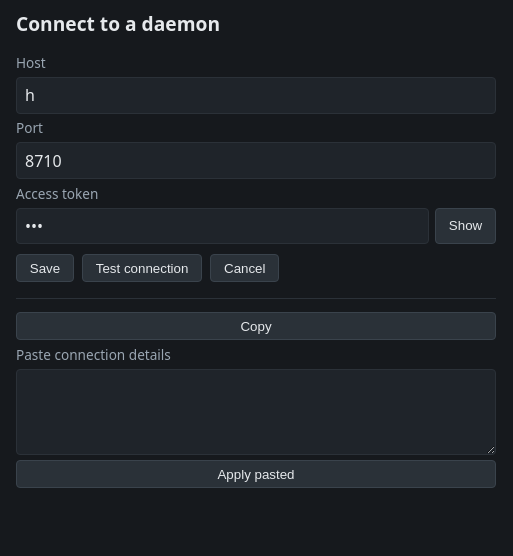
ConnectionSettings › distinguishes a rejected token from an unreachable daemon
Step 1. Click the button "Test connection" → point(142, 268), box 82,254 -> 202,282
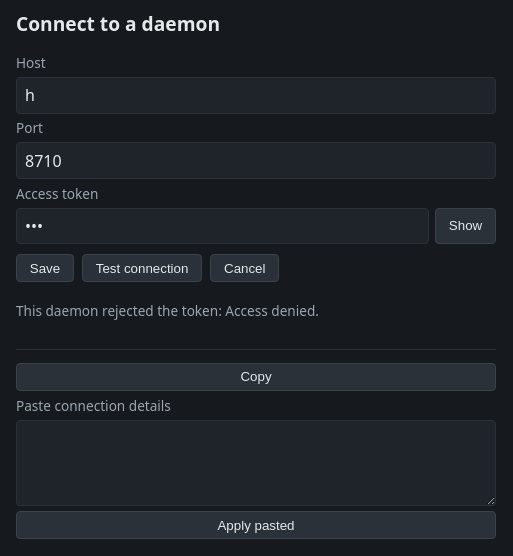
Check: the message shows "rejected the token", box 16,300 -> 319,320
